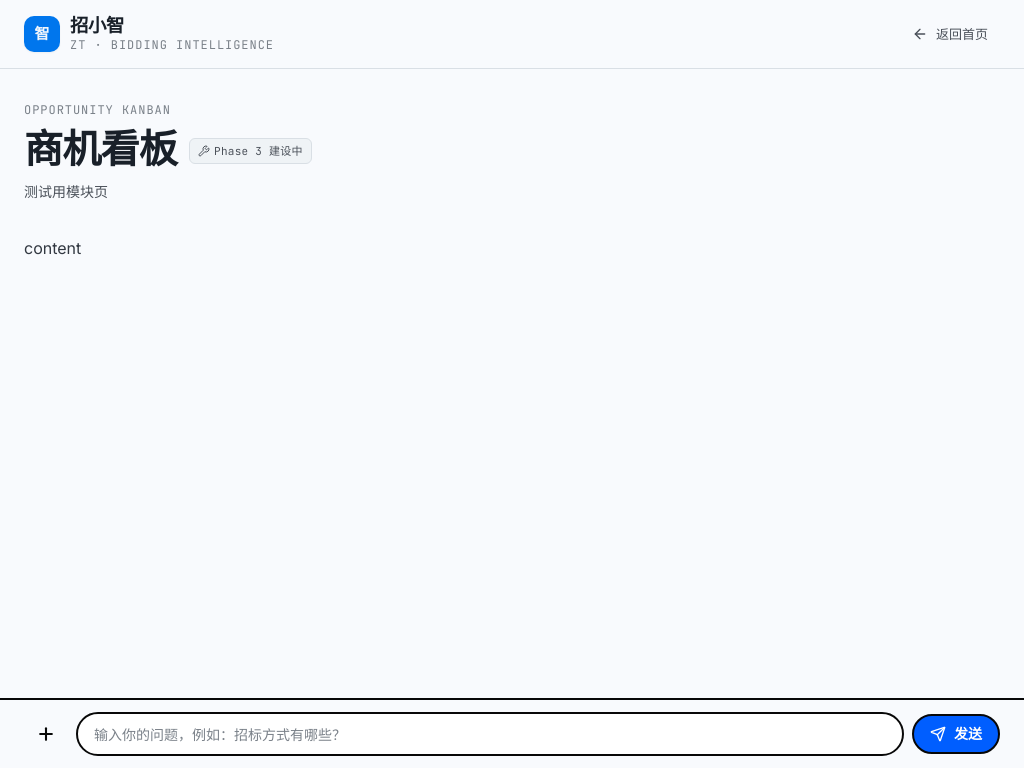
Test: 模块页外壳：吸底对话框 + 浮窗闭环 › 发送后浮窗持续保持打开，不会数秒后自动收起
Type "你好" into the field with placeholder "输入你的问题，例如：招标方式有哪些？" at (490, 734), box [76,712,904,756]
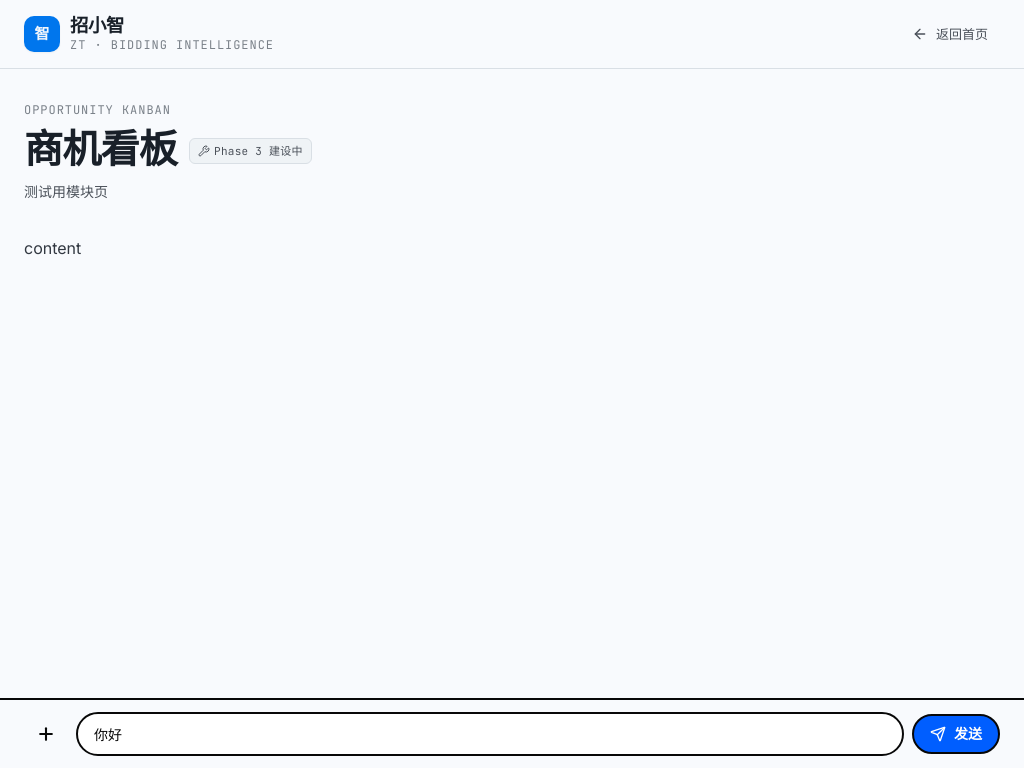
Click the button "发送" at (956, 734), box [912,714,1000,754]
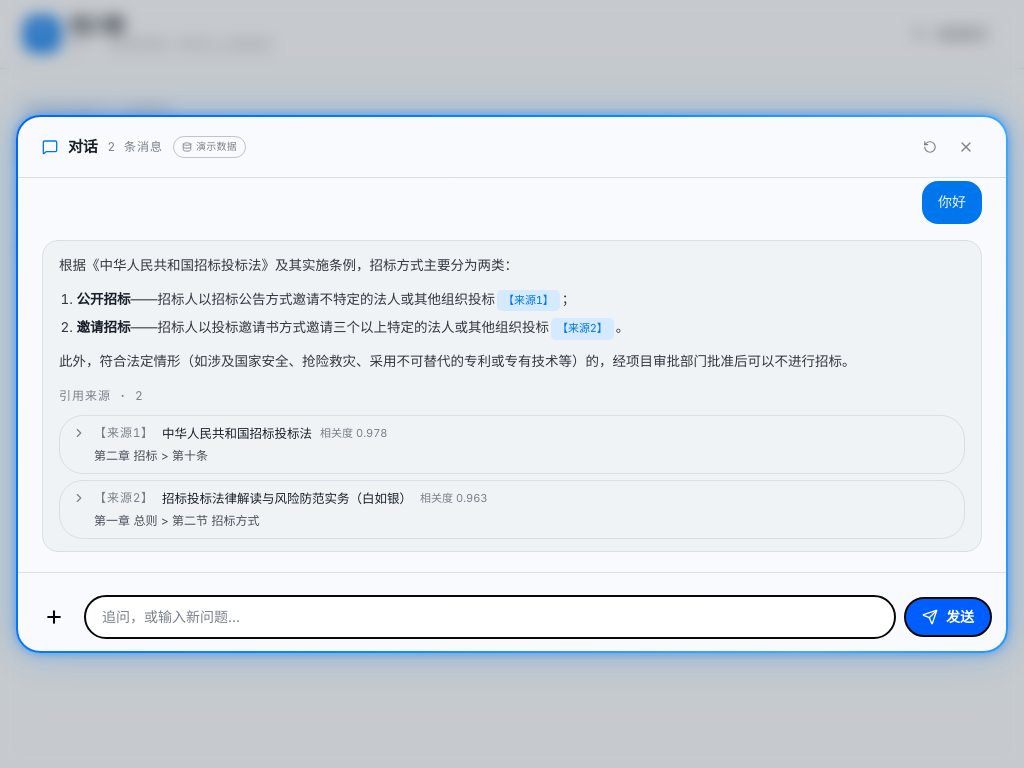
Check: the dialog is shown
Check: the text "你好" is shown, box [922,181,982,224]
Check: the text "根据《中华人民共和国招标投标法》及其实施条例，招标方式主要分为两类：" is shown, box [59,257,518,273]
